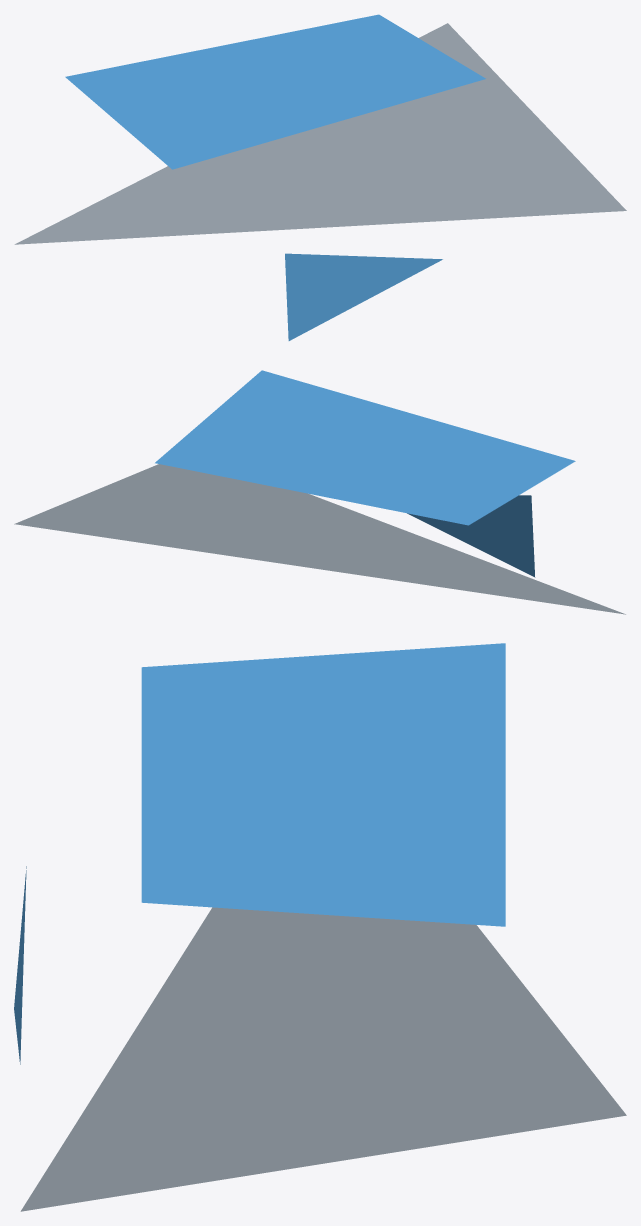
Rendered from AL_BulwarkMBT_LOD2.glb.
3 renders of one model, top to bottom at view 1: azimuth 30°, elevation 25°; view 2: azimuth 150°, elevation 25°; view 3: azimuth 270°, elevation 25°, orthographic. The views are drawn at different scales.
Visible parts, largest first — view 1: EntranceGate; view 2: EntranceGate; view 3: EntranceGate.
Part boxes in pixels (x1,y1,x2,y2): EntranceGate: (14, 14, 626, 340); EntranceGate: (14, 370, 625, 614); EntranceGate: (14, 643, 626, 1211).
Size of the model in its own units: 540 by 175 by 323.
